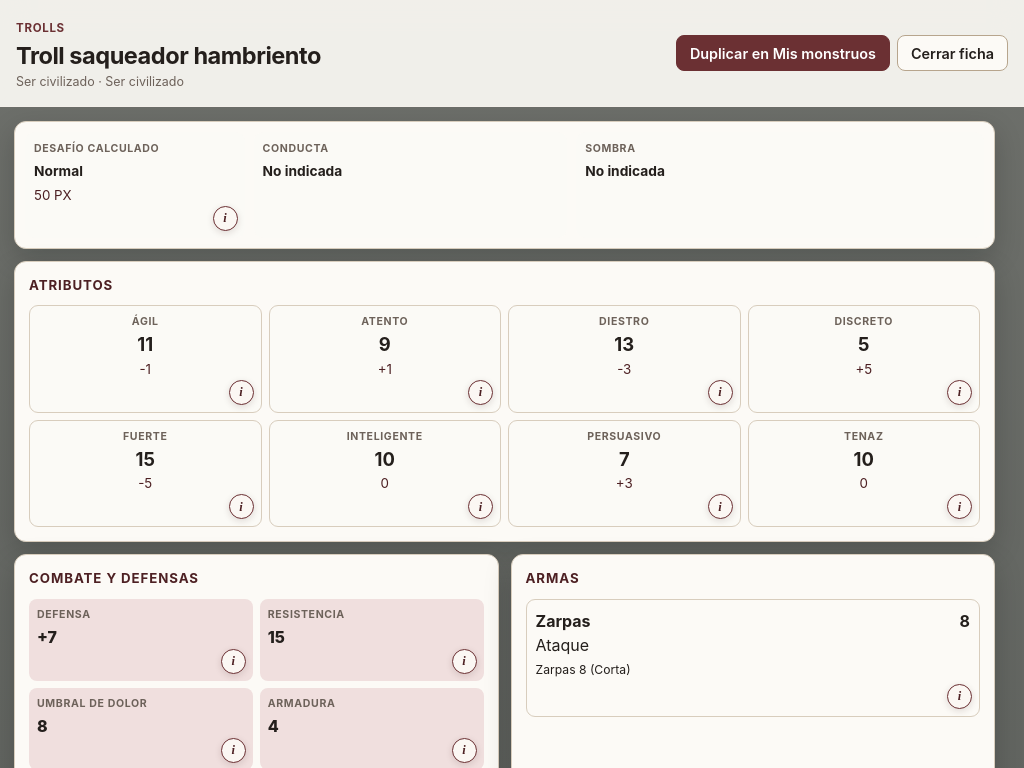
Scenario: MonsterReferenceSheet › separa los promedios de Arma natural, Robusto y Berserker
Click the button named "Ver cálculo de ataque de Zarpas": [960, 696] box [947,684,972,709]
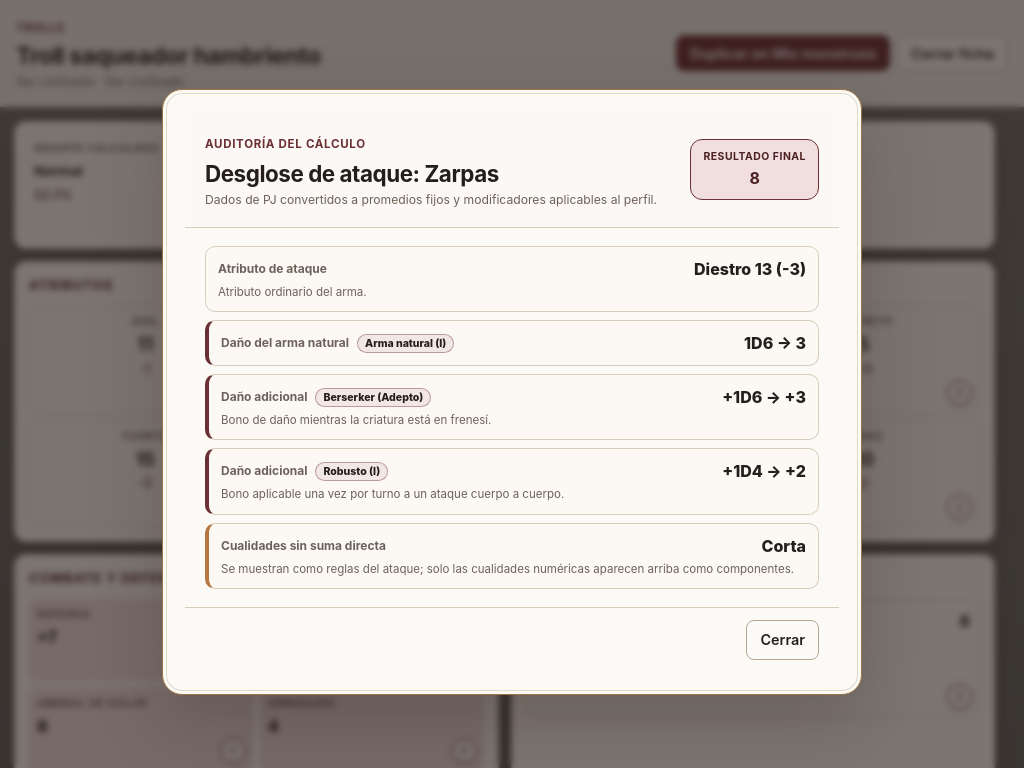
Now the text "Daño del arma natural" shows "1D6 → 3", box [744,333,806,353]
Now the text "Arma natural (I)" is shown, box [357,334,454,353]
Click the button "Cerrar": [783, 640] box [746,620,819,660]
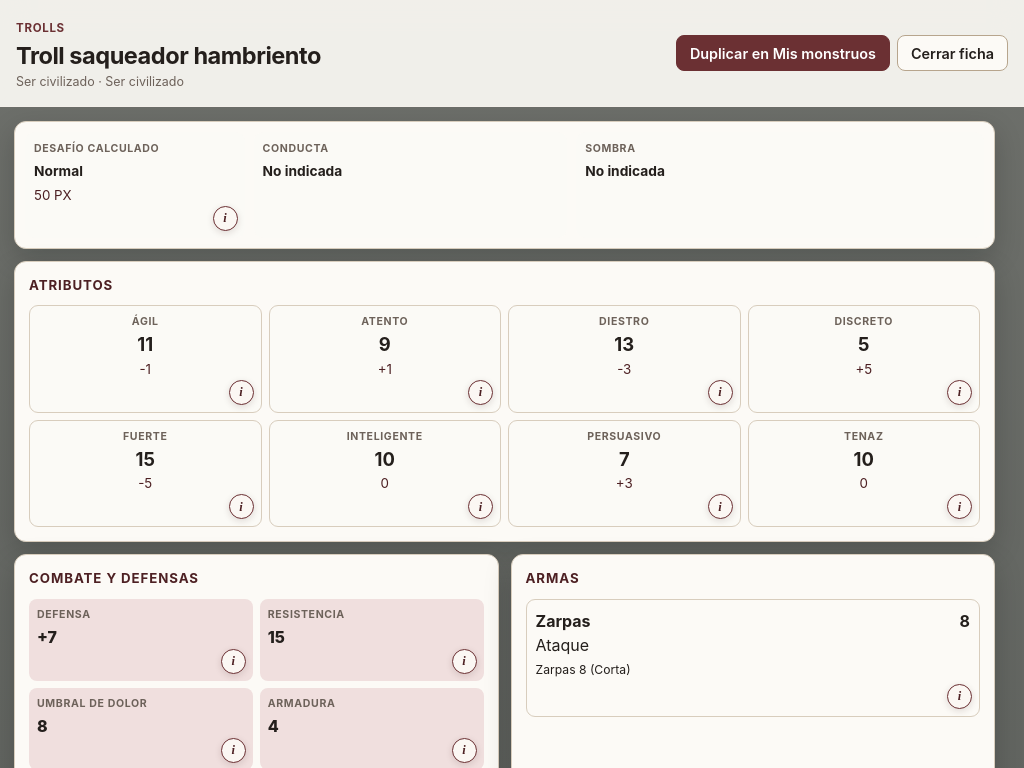
Click the button named "Ver cálculo de Armadura": [464, 750] box [452,738,476,763]
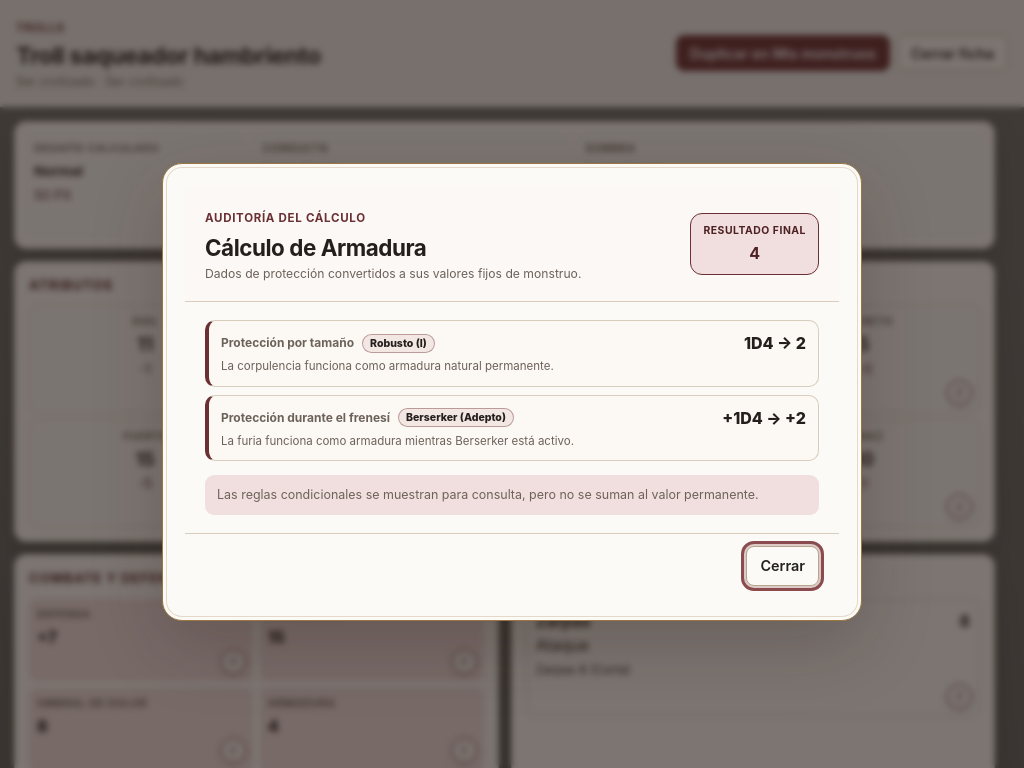
Now the text "Protección por tamaño" shows "1D4 → 2", box [744,333,806,353]
Now the text "Protección durante el frenesí" shows "+1D4 → +2", box [722,408,806,428]
